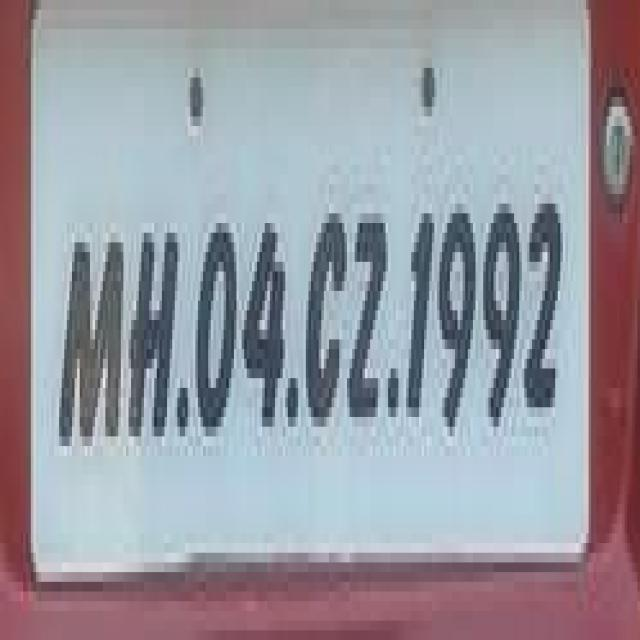license_plate: (23, 0, 589, 582)
